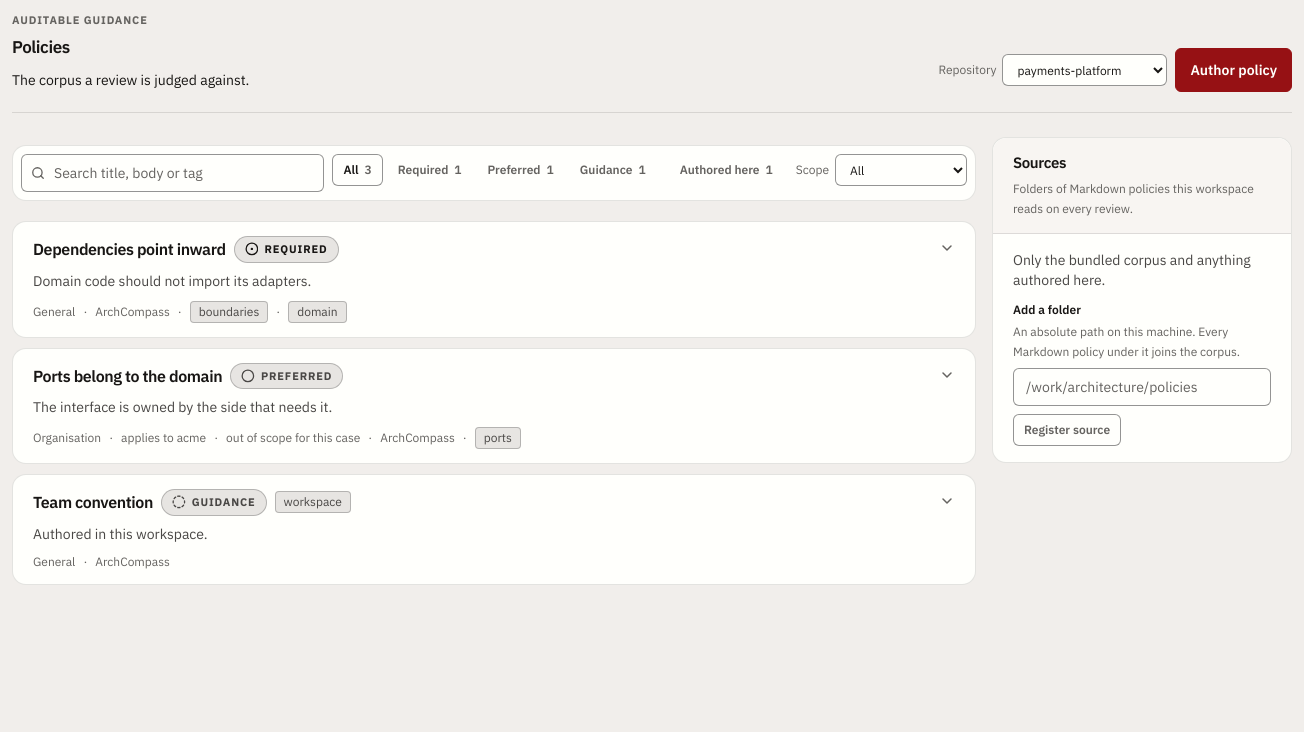
it: the policy corpus › filters by search, strength and scope
Expected: the text "Ports belong to the domain" is shown, [33,364,222,388]
In the search field named "Search policies": (173, 173) [21,154,324,192], type "interface"
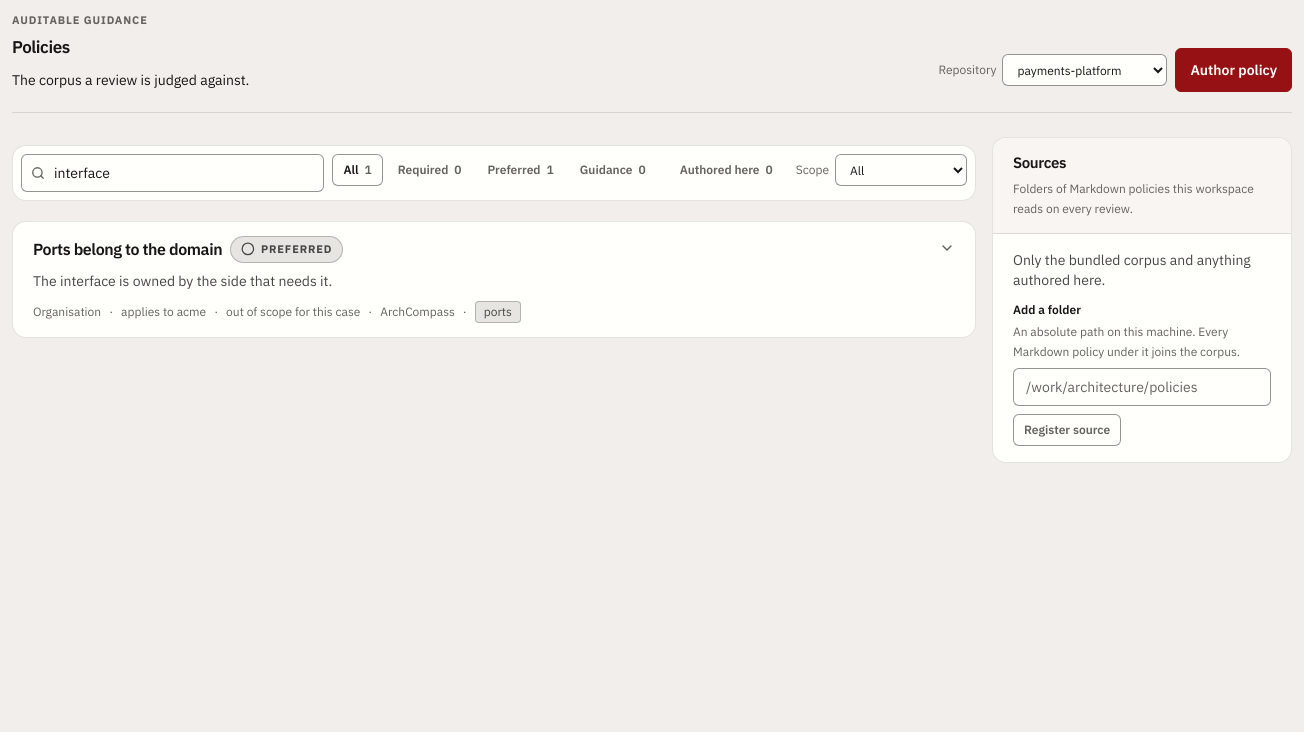
Expected: the text "Ports belong to the domain" is shown, [33,237,222,261]
Expected: the button "Dependencies point inward" is gone
Clear the search field named "Search policies": (173, 173) [21,154,324,192]
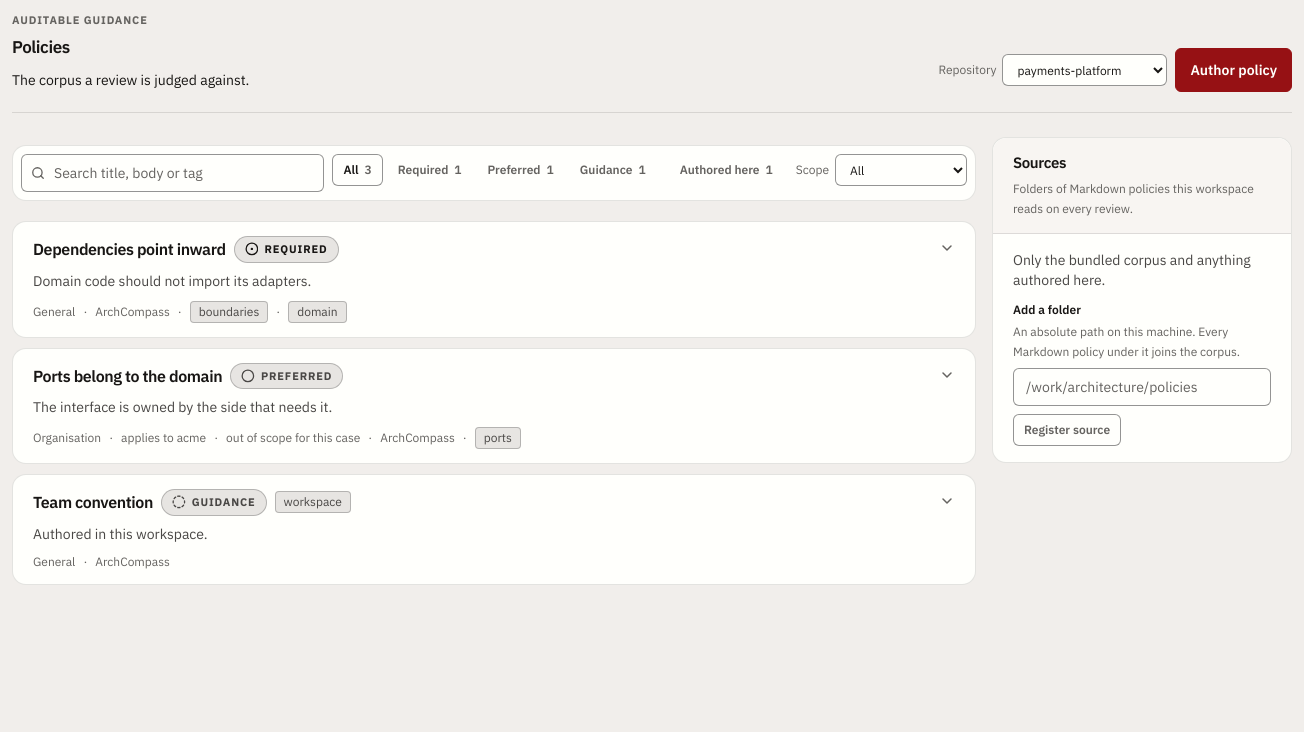
Expected: the text "Dependencies point inward" is shown, [33,237,226,261]
Click the button "required 1": (430, 170) [387,154,472,186]
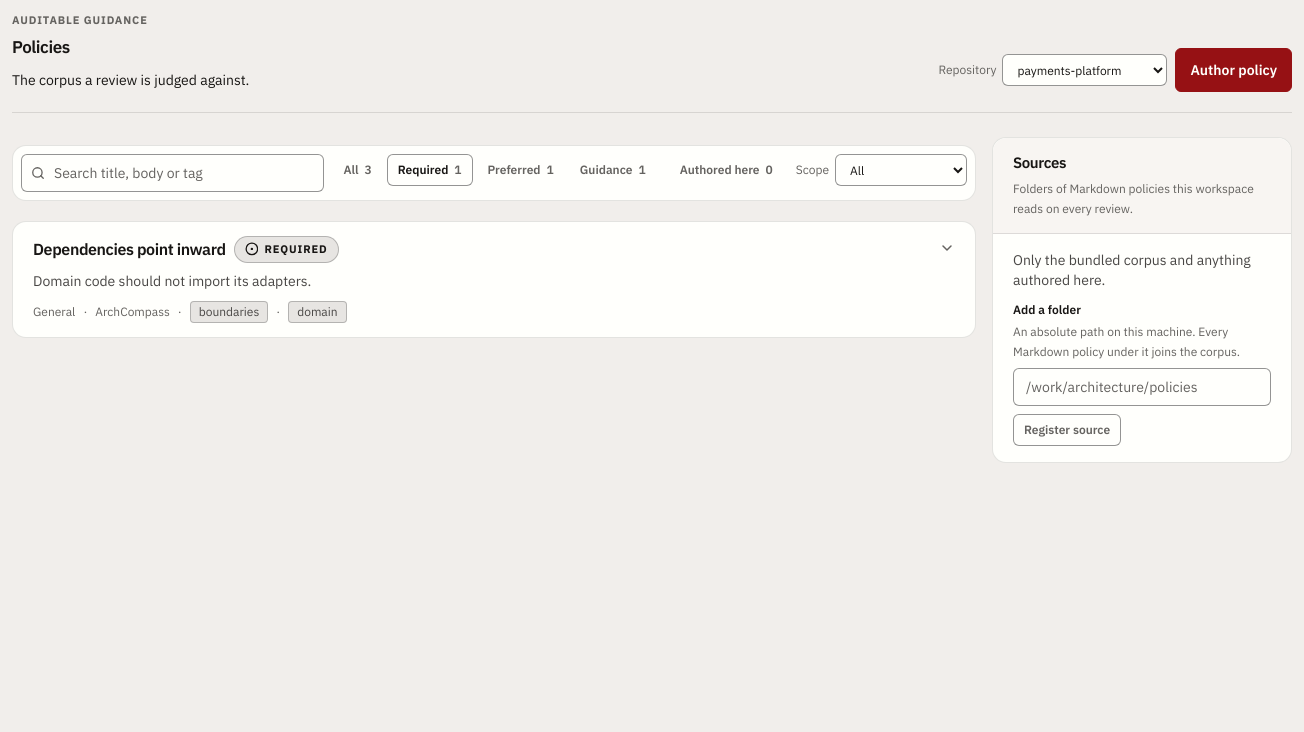
Expected: the text "Dependencies point inward" is shown, [33,237,226,261]
Expected: the button "Ports belong to the domain" is gone
Click the button "all 3": (358, 170) [332,154,383,186]
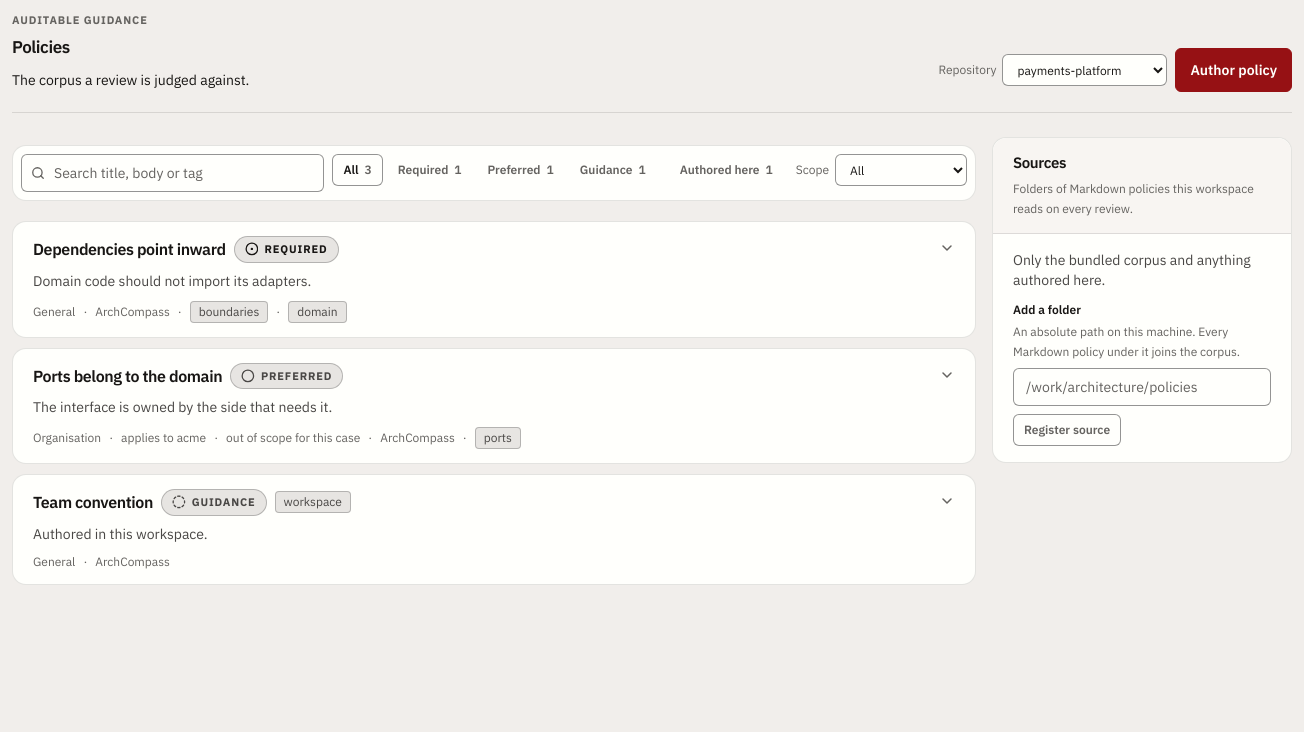
Select "Organisation" in the dropdown named "Filter by scope": (901, 170) [835,154,967,186]
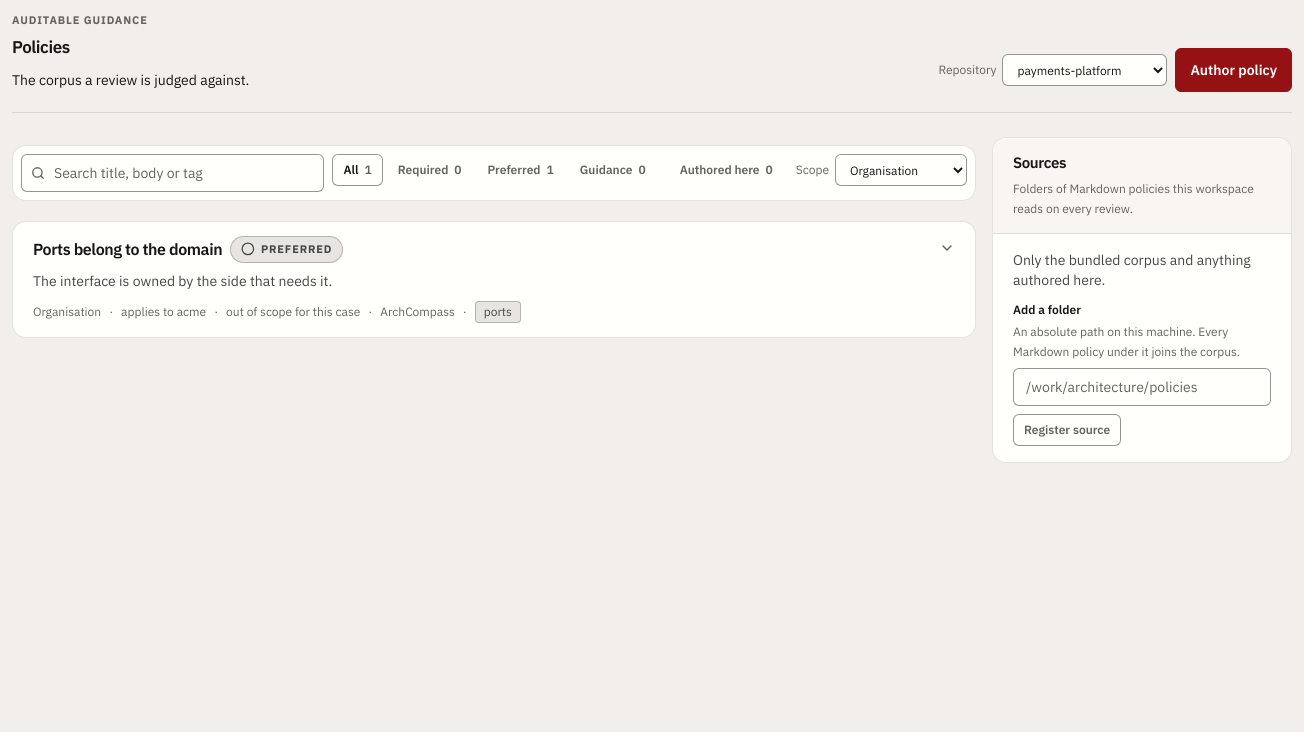
Expected: the text "Ports belong to the domain" is shown, [33,237,222,261]
Expected: the button "Dependencies point inward" is gone
